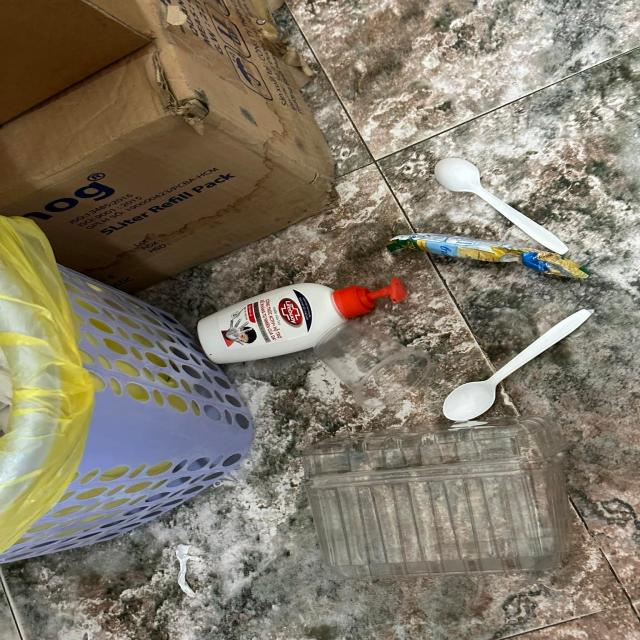bottle: (197, 277, 406, 364)
packet: (386, 232, 592, 280)
plastic glass: (314, 320, 430, 408)
plastic holder: (299, 414, 577, 581)
plastic utensil: (443, 309, 592, 421), (433, 157, 570, 256)
